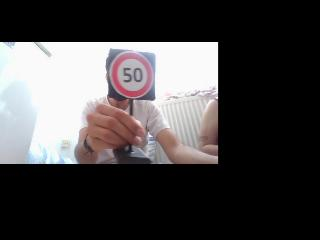Speedlimit_50: (109, 50, 155, 100)
